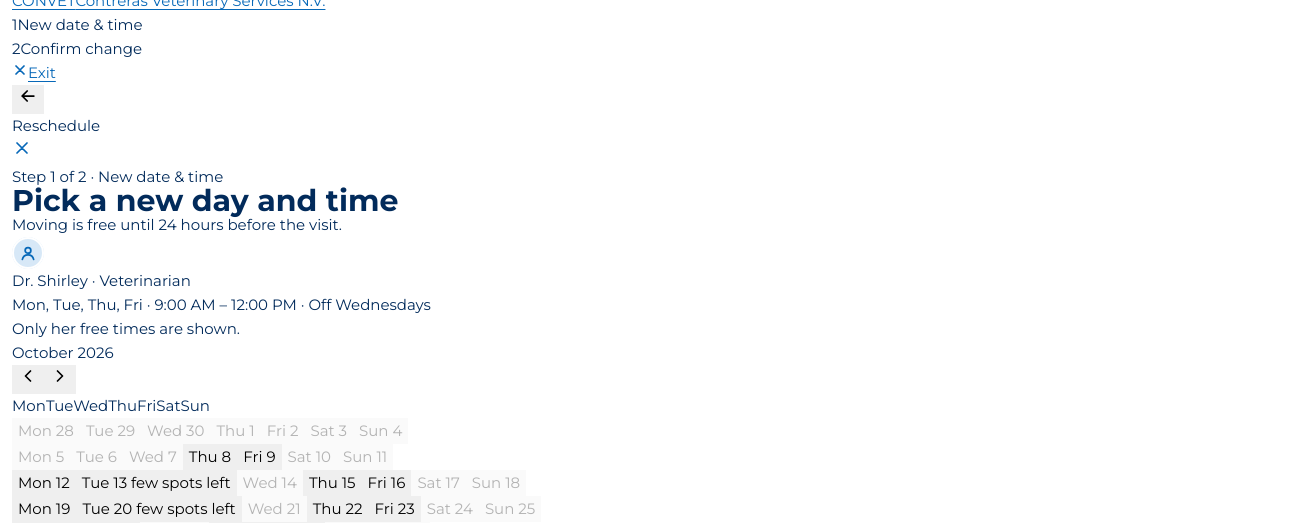
Test: RescheduleFlow going back › leaves to the appointments from the first step and goes back to the day from the second
Click the button named "Back".
click(28, 100)  # box [12,85,44,114]
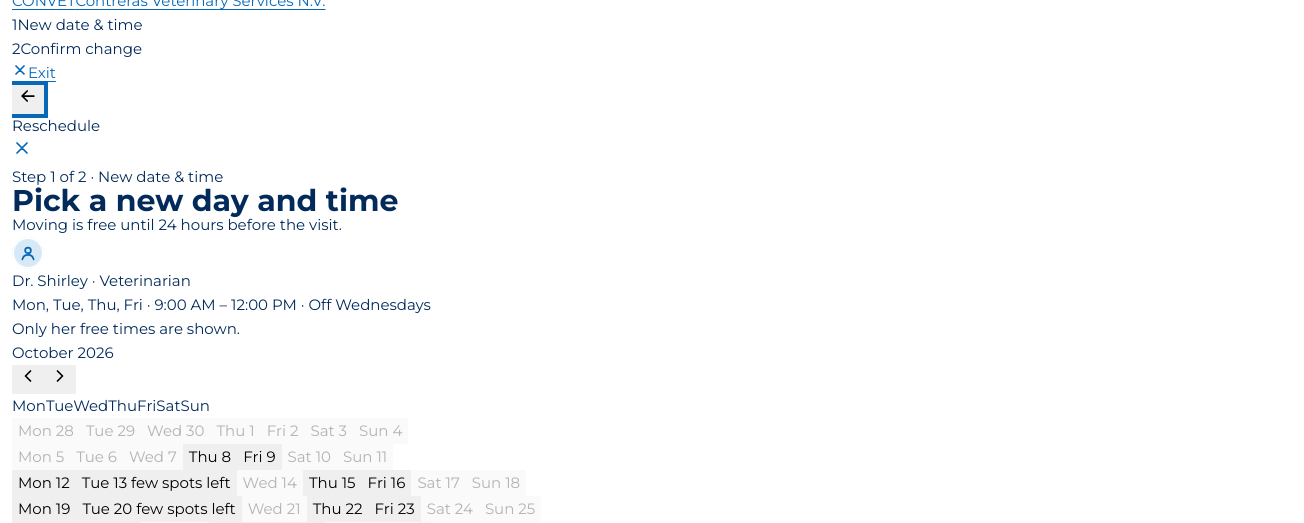
Click the button with aria-label "Friday, October 16, 2026".
click(386, 483)  # box [362,470,411,496]
(page scrolled)
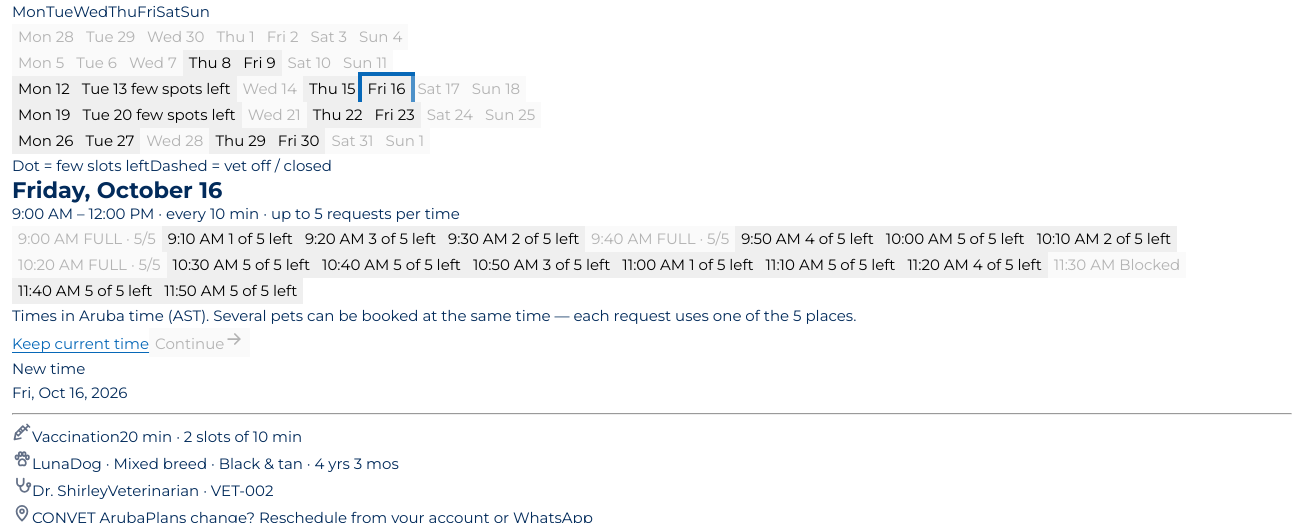
Click the button "9:30 AM 2 of 5 left".
click(514, 239)  # box [442,226,585,252]
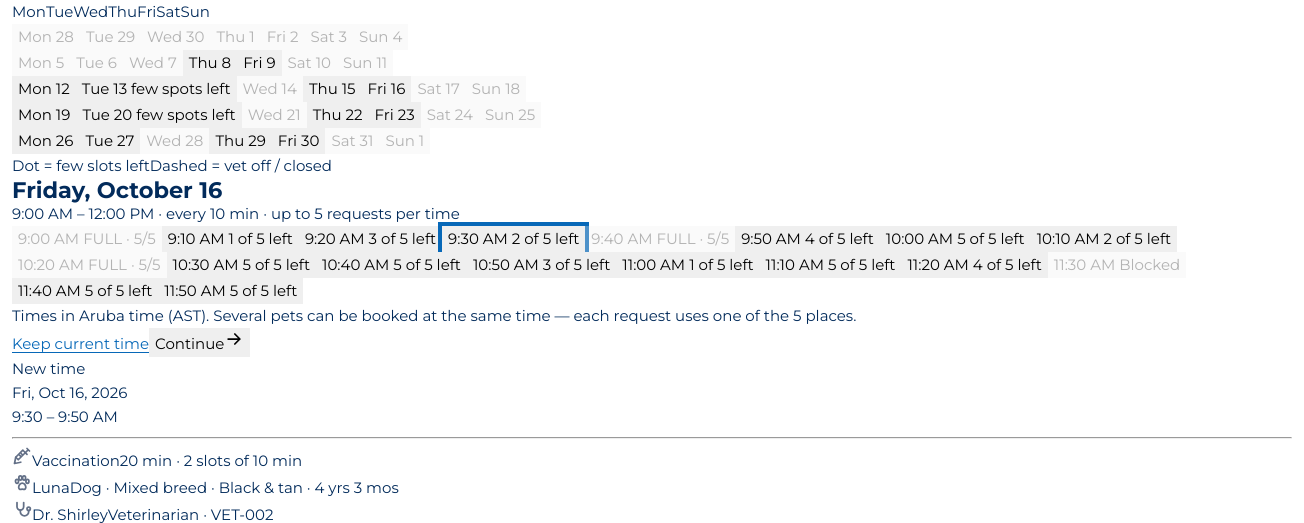
Click the 1st button "Continue".
click(200, 342)  # box [149,328,250,357]
(page scrolled)
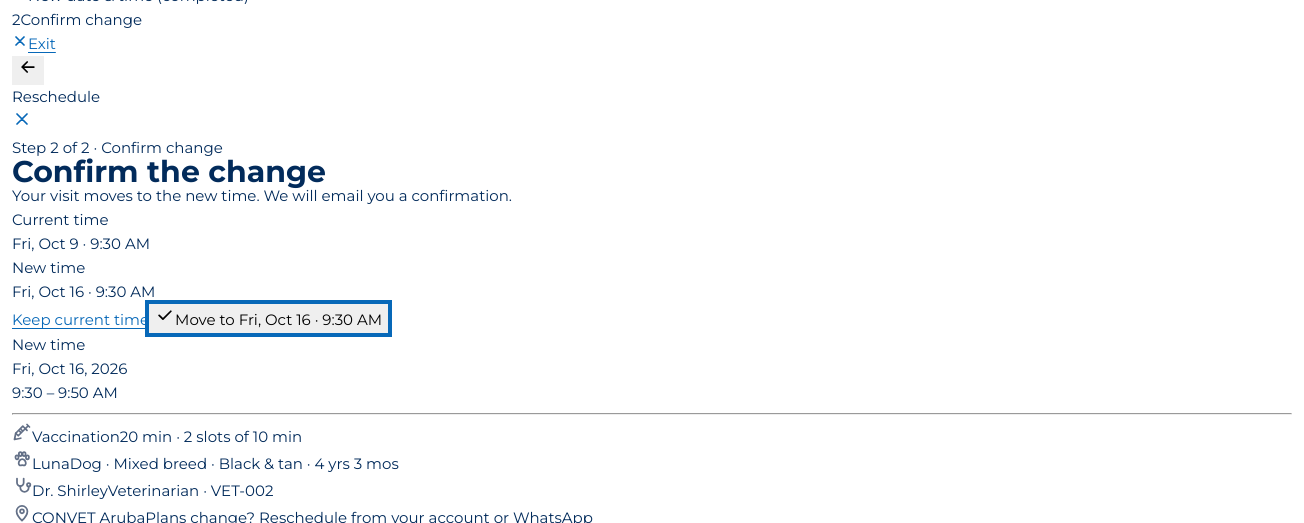
Click the button named "Back".
click(28, 70)  # box [12,56,44,85]
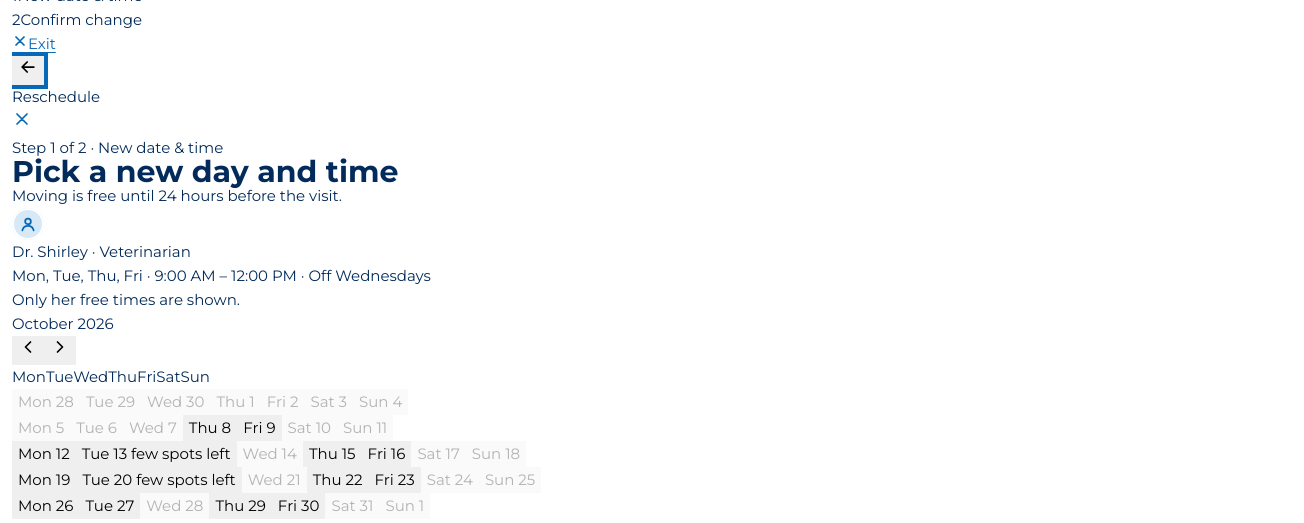
Check: the heading "Pick a new day and time" is shown, box [12,153,398,190]
